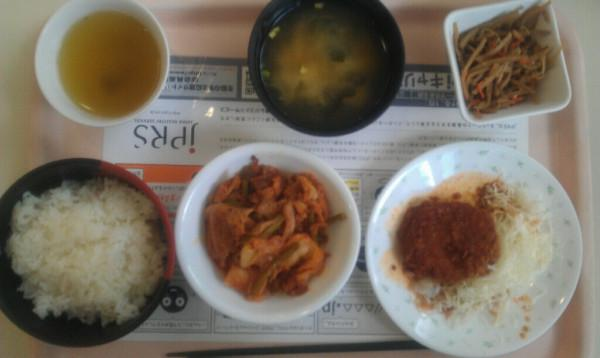plate: (0, 158, 172, 347)
rice: (7, 179, 167, 324)
